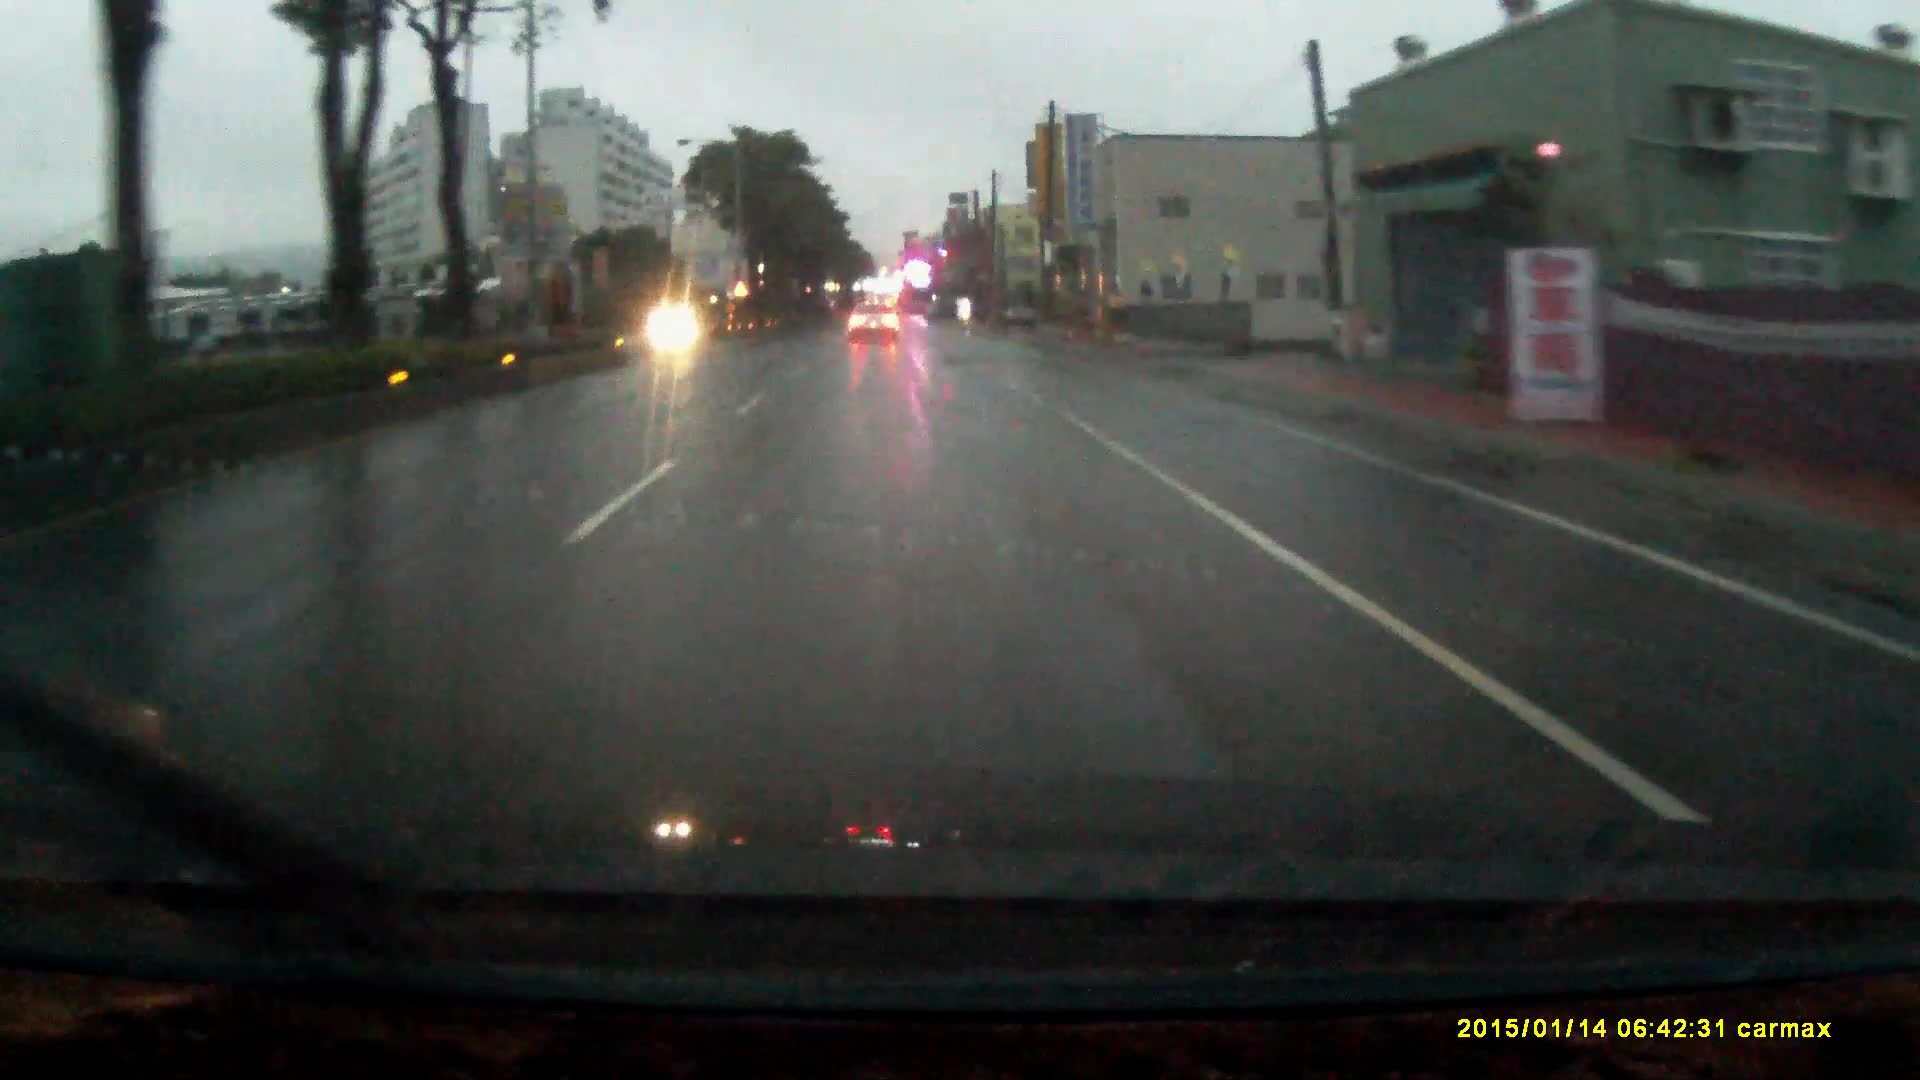vehicle: (848, 309, 901, 351), (1006, 284, 1042, 324)
